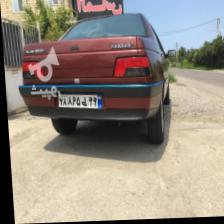plate: (57, 92, 102, 110)
